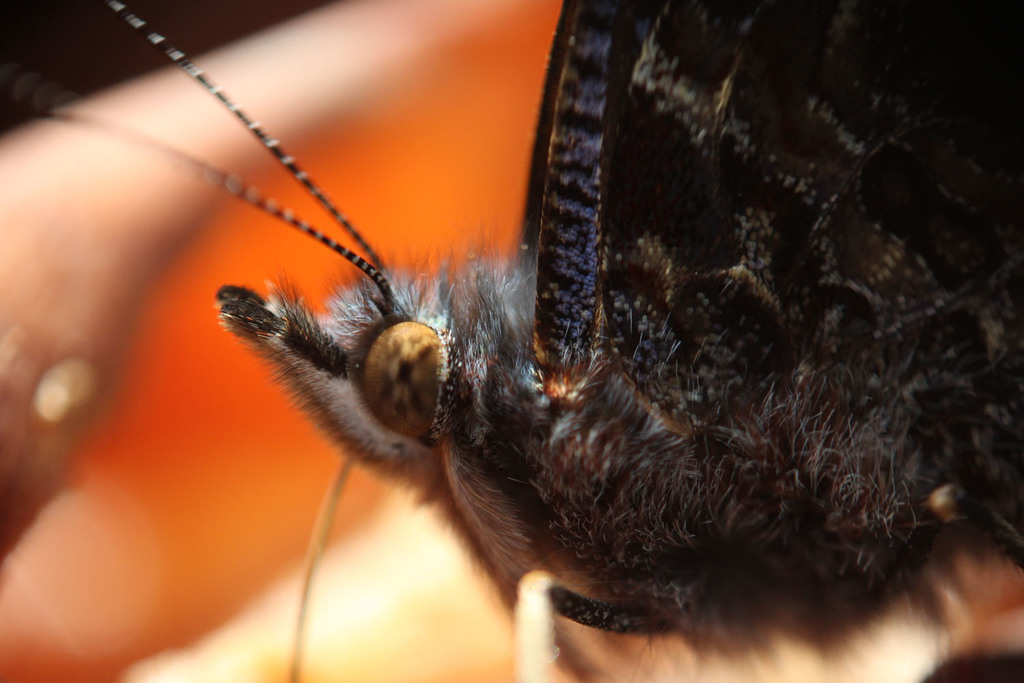Butterfly: (123, 5, 1024, 647)
